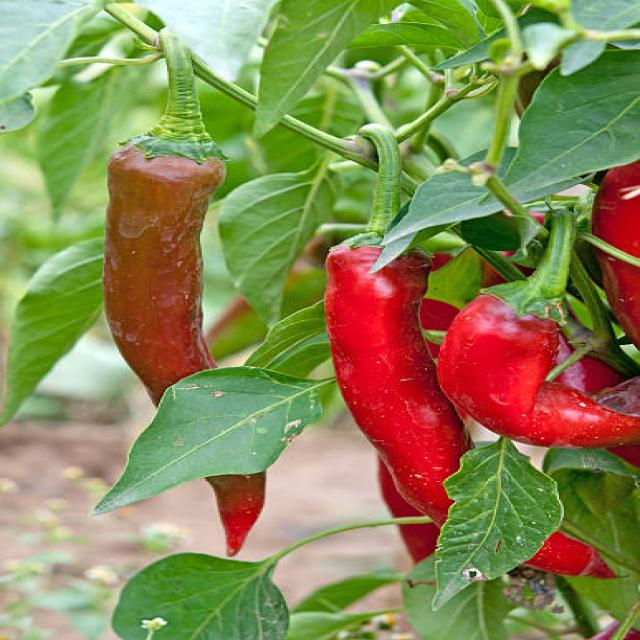Half-Ripe: (106, 145, 223, 406)
Ripe: (326, 236, 456, 528), (438, 294, 640, 470)
